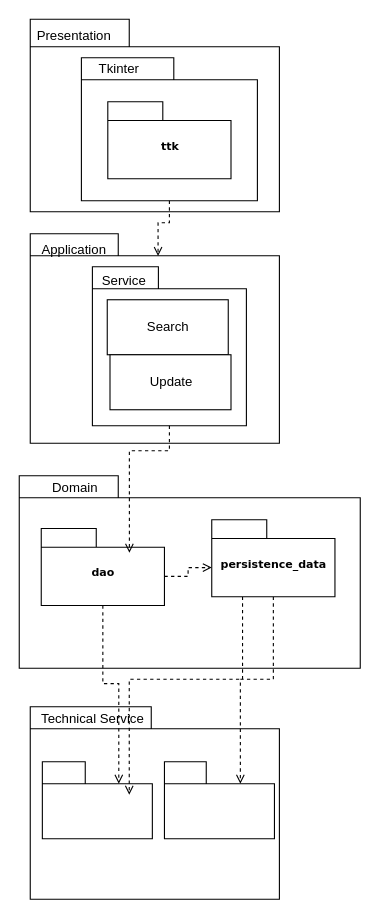
This 380x919 diagram has some shape labels left out. Here are the shapes that lost their labels. From the top down, the centre of each, then its label:
At point 96,800: "SqlAlchemy".
At point 218,800: "csv".
